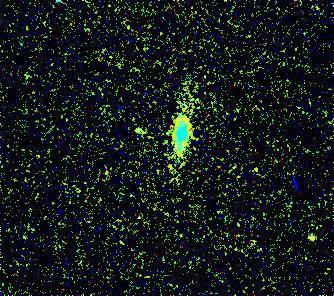star: (300, 224, 330, 254)
